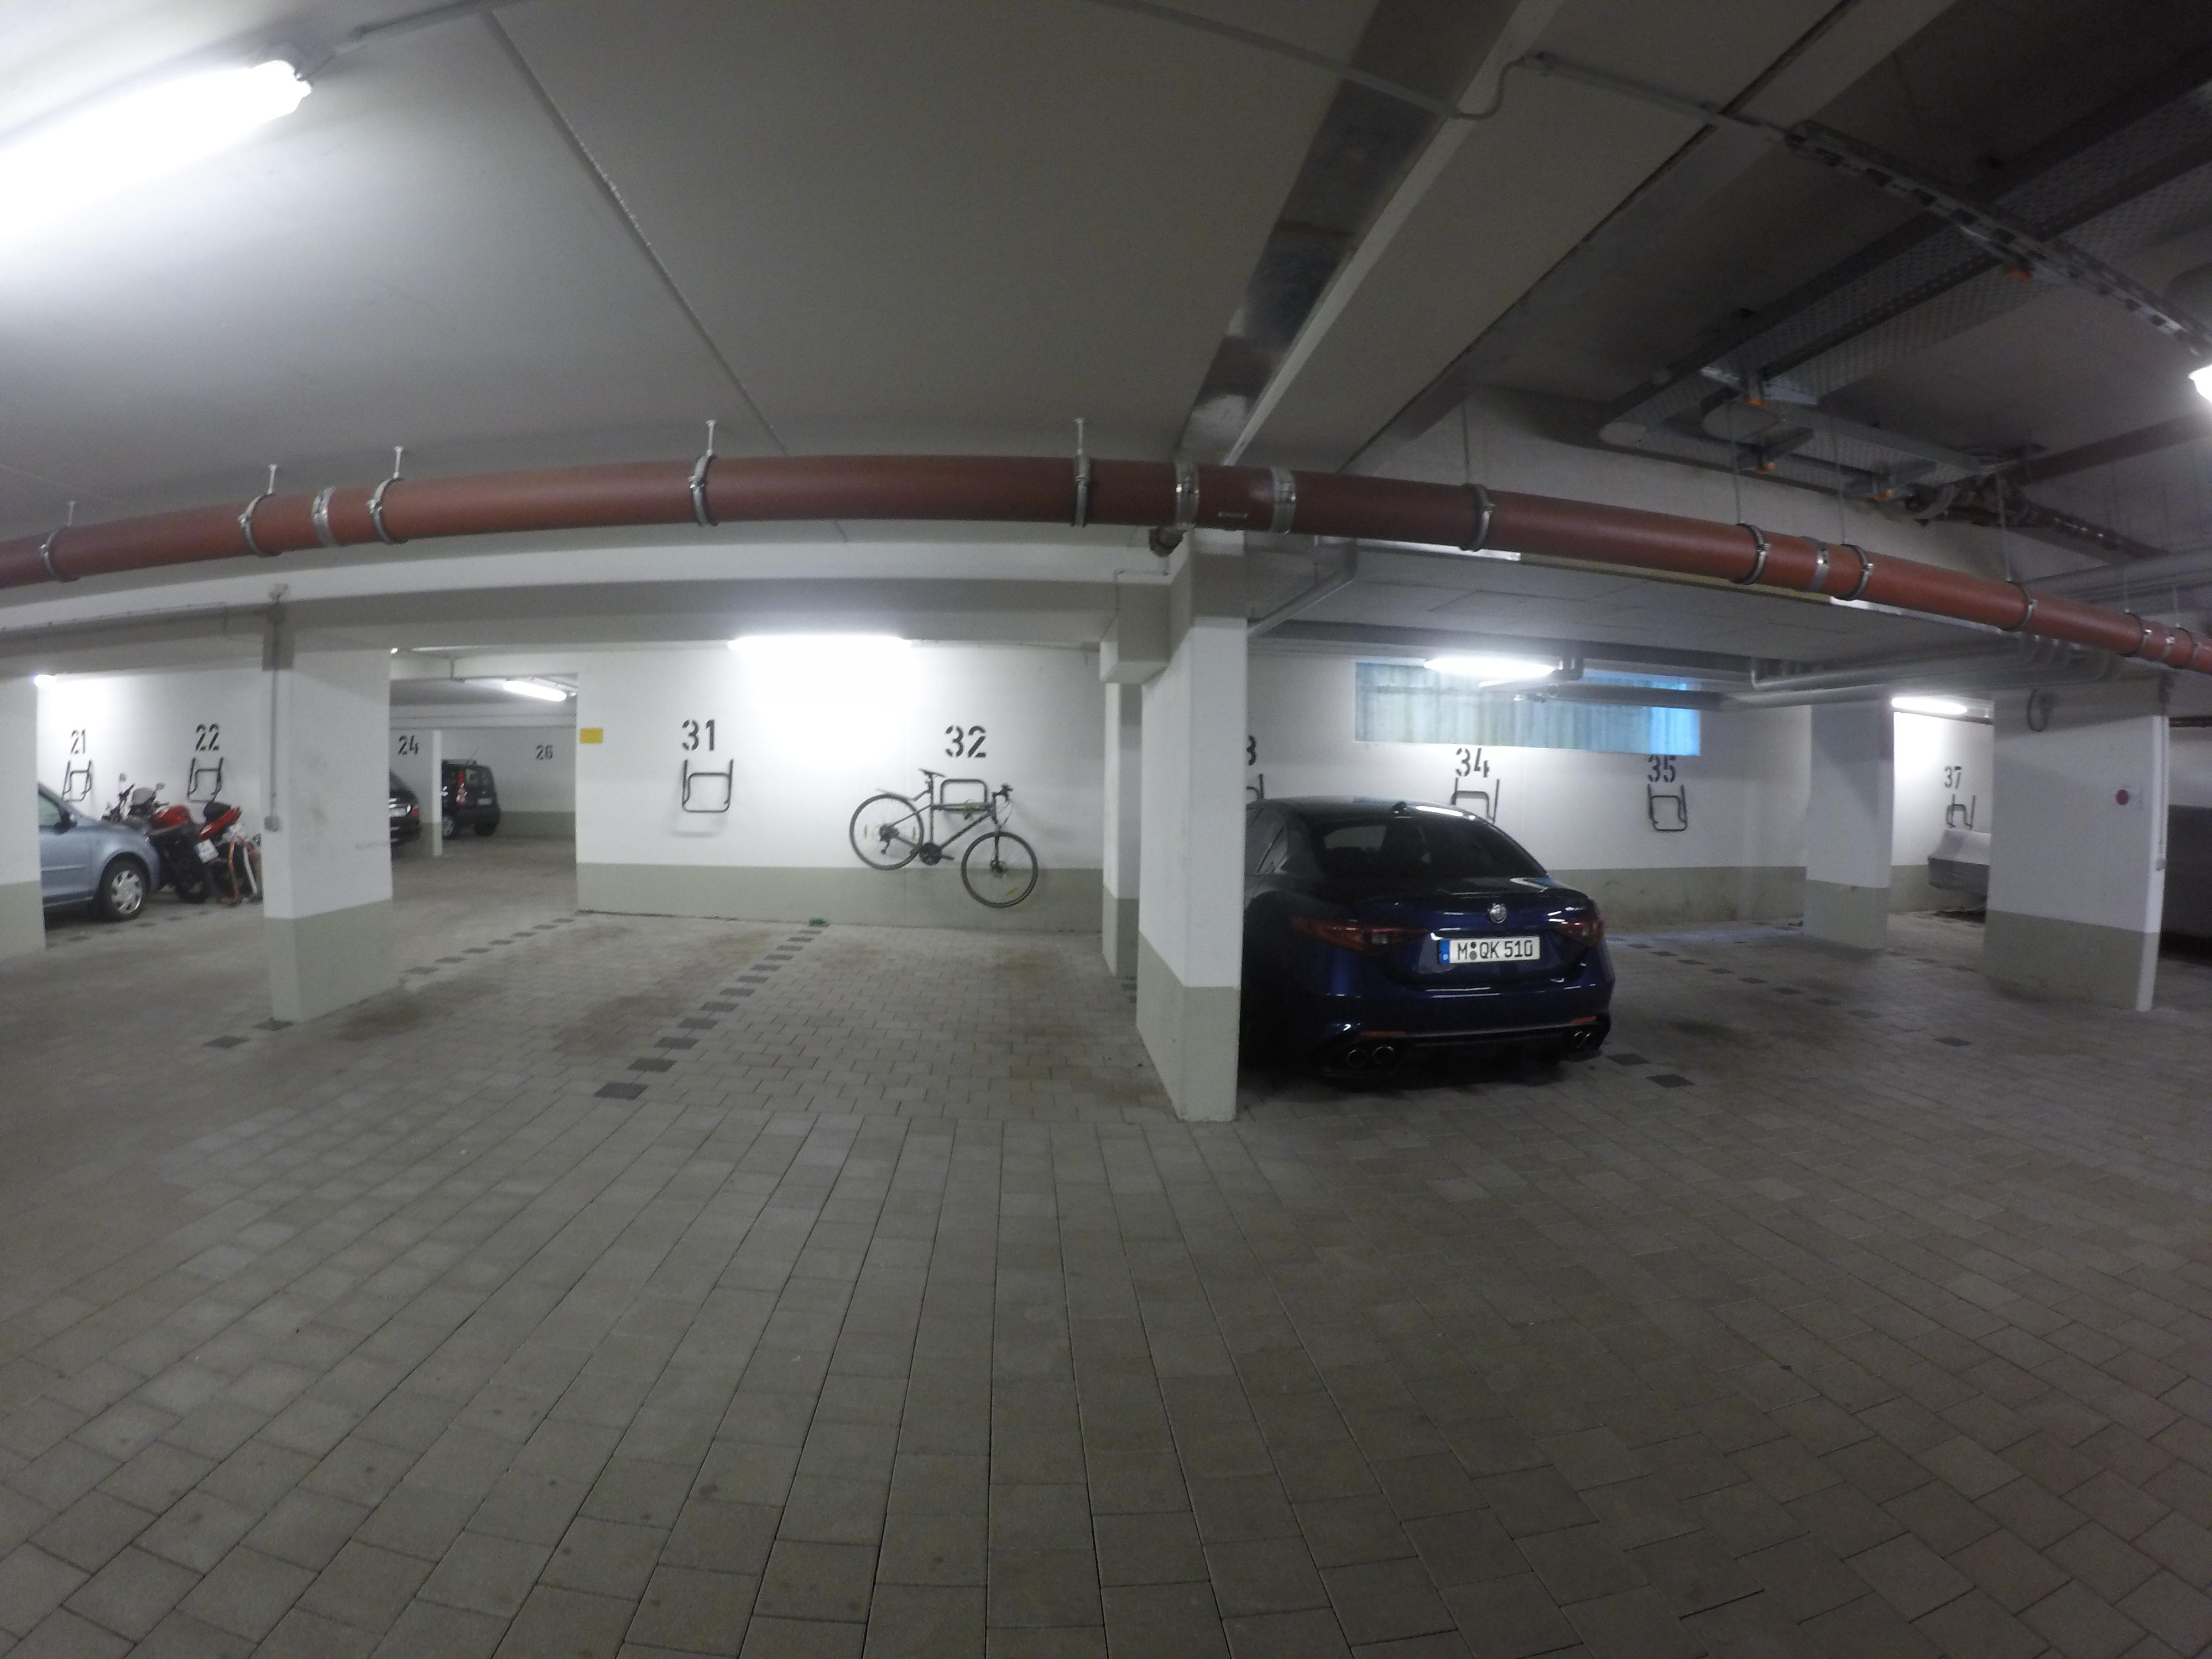0: (1524, 939, 1533, 957)
1: (1514, 940, 1524, 958)
5: (1503, 940, 1514, 958)
K: (1489, 940, 1500, 959)
M: (1456, 941, 1469, 961)
Q: (1478, 941, 1490, 959)
